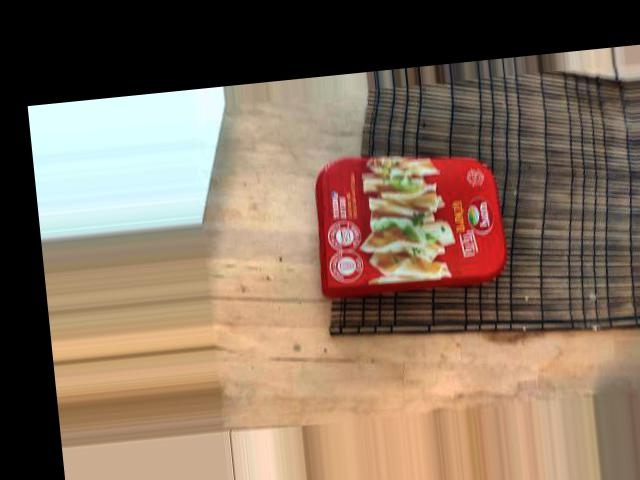cheese: (432, 75, 574, 279)
